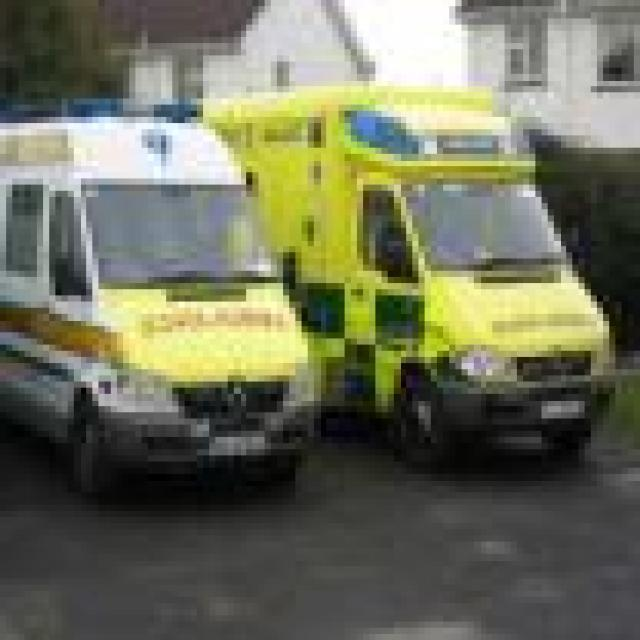emergency-vehicle: (148, 58, 622, 477), (0, 80, 338, 517)
